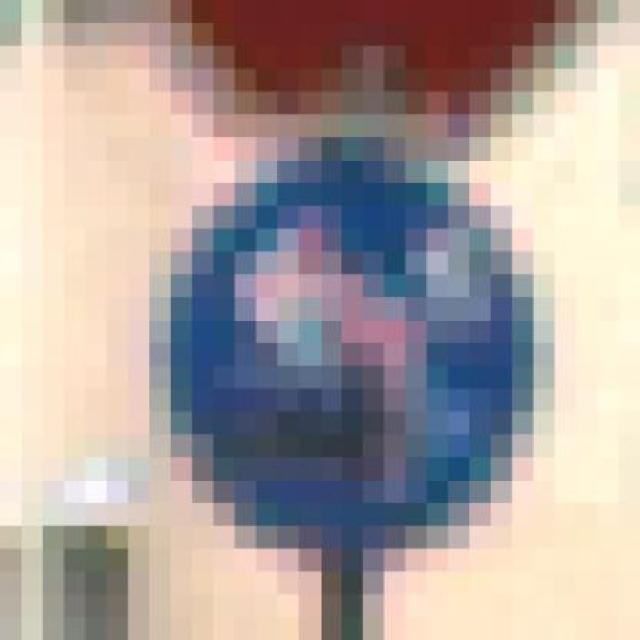Turn left ahead: (129, 137, 576, 549)
